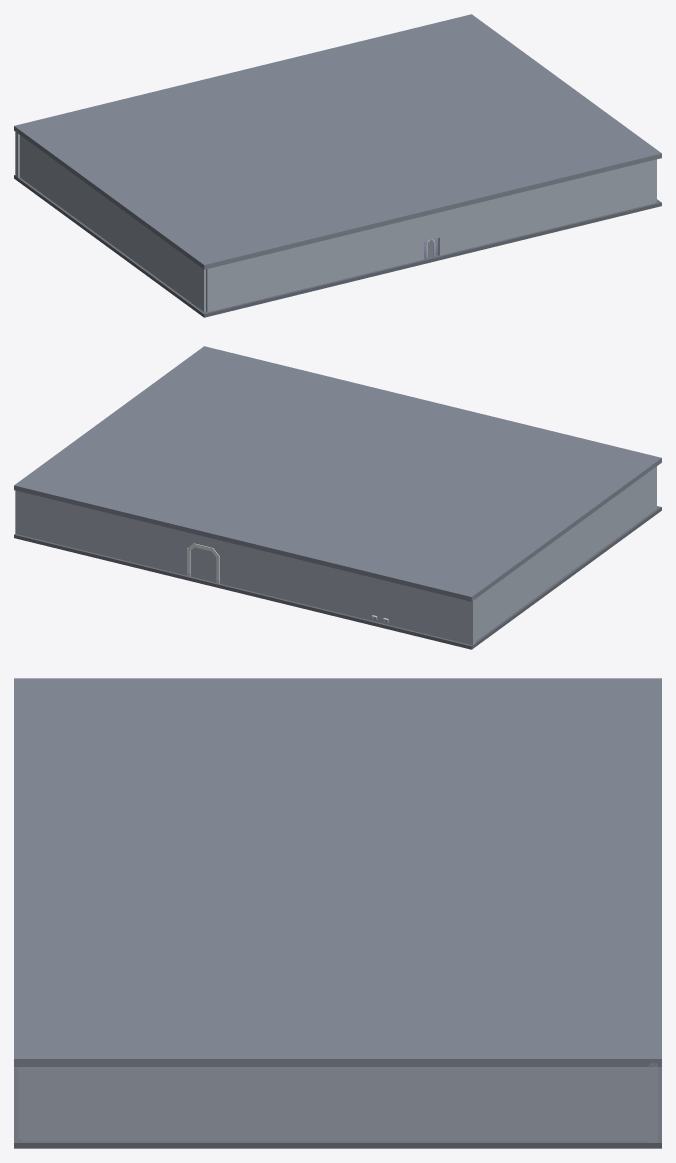
The model's file is world.glb.
3 renders of one model, top to bottom at view 1: azimuth 30°, elevation 25°; view 2: azimuth 150°, elevation 25°; view 3: azimuth 270°, elevation 25°, orthographic. The views are drawn at different scales.
Parts seen in each view (by area): view 1: Ceiling, Wall_S_R, Wall_S_L, Wall_W, Terrain; view 2: Ceiling, Wall_N, Wall_W, Terrain; view 3: Ceiling, Wall_E, Terrain, Wall_N.
Part boxes in pixels (x1,y1,x2,y2): Ceiling: (14,14,661,269); Wall_S_R: (438,159,656,255); Wall_S_L: (206,216,423,312); Wall_W: (20,135,205,311); Terrain: (14,175,661,317); Ceiling: (14,346,661,601); Wall_N: (15,490,475,645); Wall_W: (475,466,656,640); Terrain: (14,506,661,649); Ceiling: (14,678,661,1066); Wall_E: (22,1067,648,1140); Terrain: (14,1067,661,1148); Wall_N: (648,1063,657,1142).
Bounding box in the file's own units: 71.4 × 7.85 × 51.4.
Materials: 136 (3 with a texture image).
